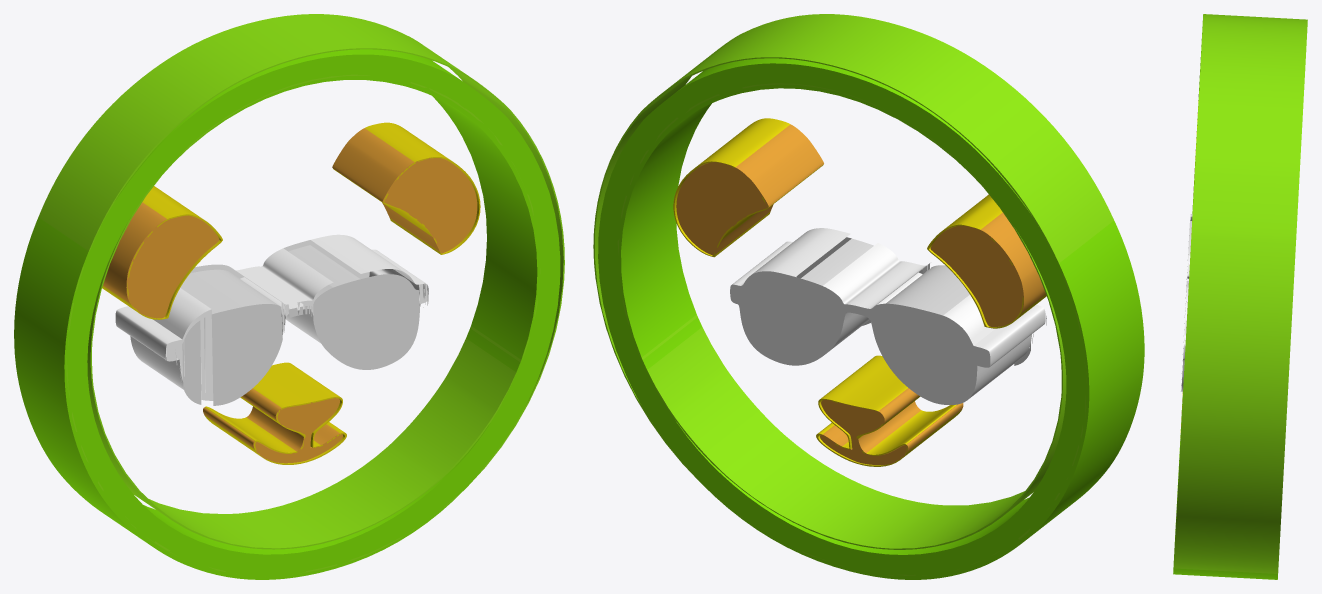
Rendered from panda.glb.
The picture shows the model from 3 angles, left to right: view 1: azimuth 30°, elevation 25°; view 2: azimuth 150°, elevation 25°; view 3: azimuth 270°, elevation 25°; orthographic projection.
Visible parts, largest first — view 1: Curve.006, Curve.005, Curve.004, Curve.007, Curve.008, Curve.002; view 2: Curve.006, Curve.005, Curve.008, Curve.004, Curve.002, Curve.007; view 3: Curve.005, Curve.006, Curve.008.
Boxes of the visible parts, <box> form: Curve.006: <box>14,49,560,579</box>; Curve.005: <box>38,14,564,574</box>; Curve.004: <box>103,128,477,463</box>; Curve.007: <box>165,245,428,405</box>; Curve.008: <box>115,234,428,400</box>; Curve.002: <box>102,122,480,464</box>; Curve.006: <box>598,58,1144,579</box>; Curve.005: <box>593,14,1113,575</box>; Curve.008: <box>730,228,1045,404</box>; Curve.004: <box>676,124,1045,464</box>; Curve.002: <box>673,118,1046,466</box>; Curve.007: <box>796,237,1046,365</box>; Curve.005: <box>1173,14,1307,573</box>; Curve.006: <box>1173,21,1277,579</box>; Curve.008: <box>1181,214,1192,391</box>.
Bounding box in the file's own units: 4.91 × 4.85 × 1.16.
